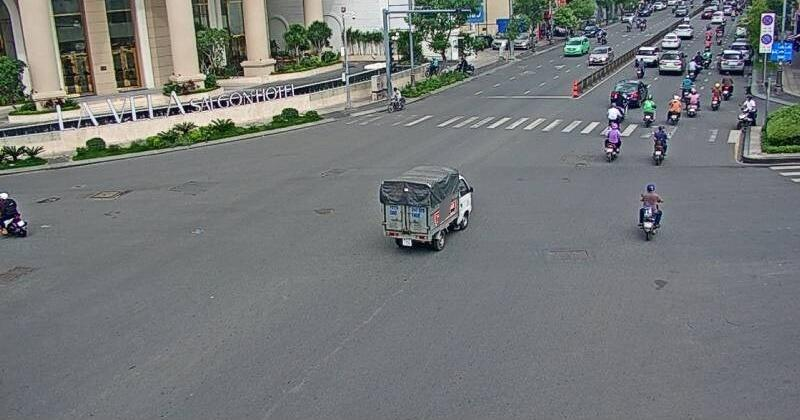xe may: (635, 183, 663, 241), (649, 125, 670, 166), (602, 122, 620, 162), (640, 93, 656, 127), (665, 93, 681, 126), (684, 86, 700, 118)
xe tai: (378, 161, 472, 254)
